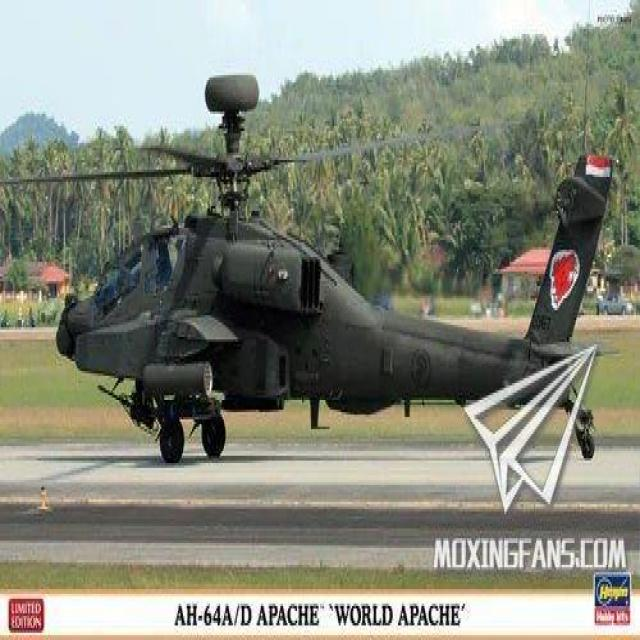MIL_HELO: (0, 69, 619, 494)
